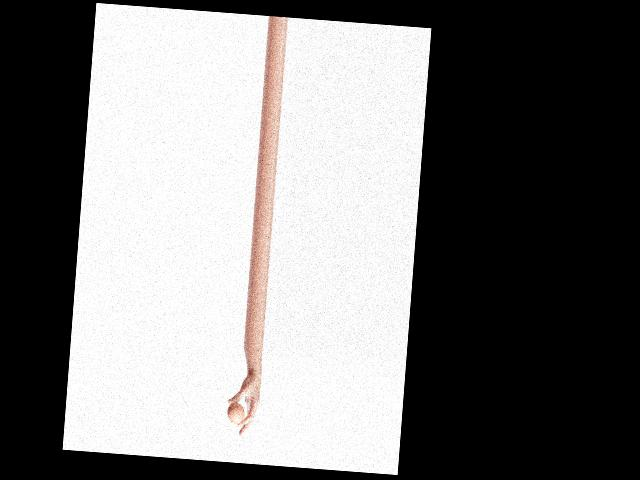egg: (226, 401, 244, 424)
